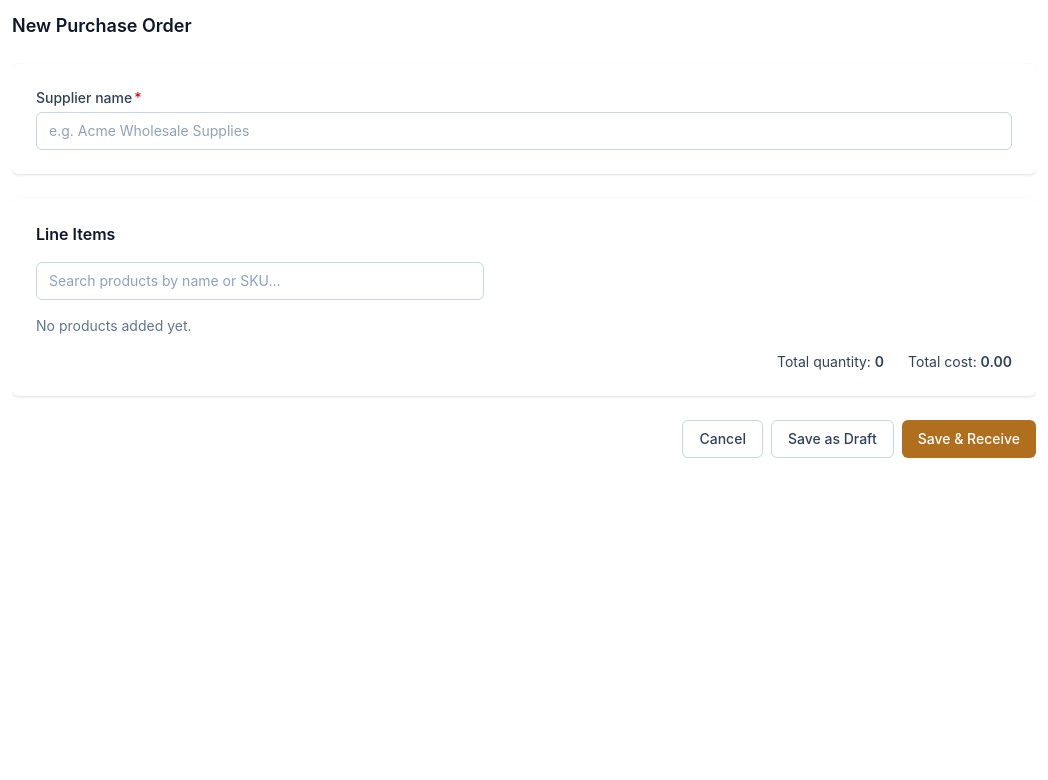
Test: PurchaseOrderBuilderPage › saves and receives in one action on success
This screenshot has width=1048, height=780.
In the field labelled "Supplier name*": (524, 131) [36,112,1012,150], type "Acme Wholesale"
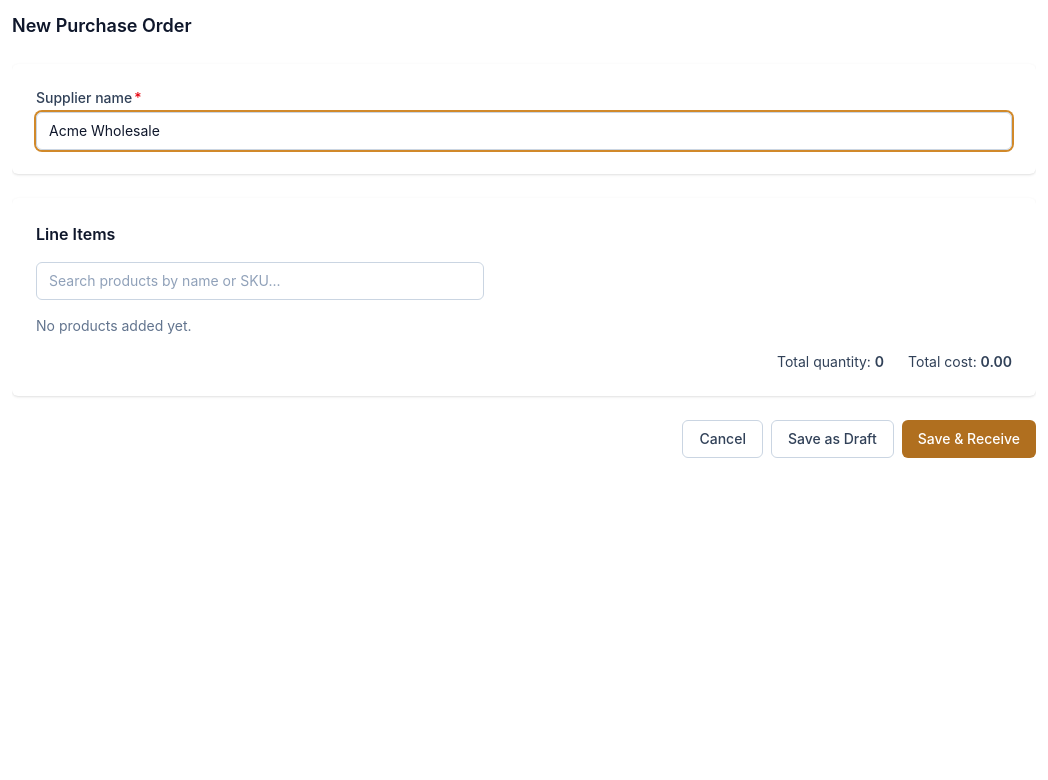
In the search field named "Add product": (260, 281) [36,262,484,300], type "Steel"
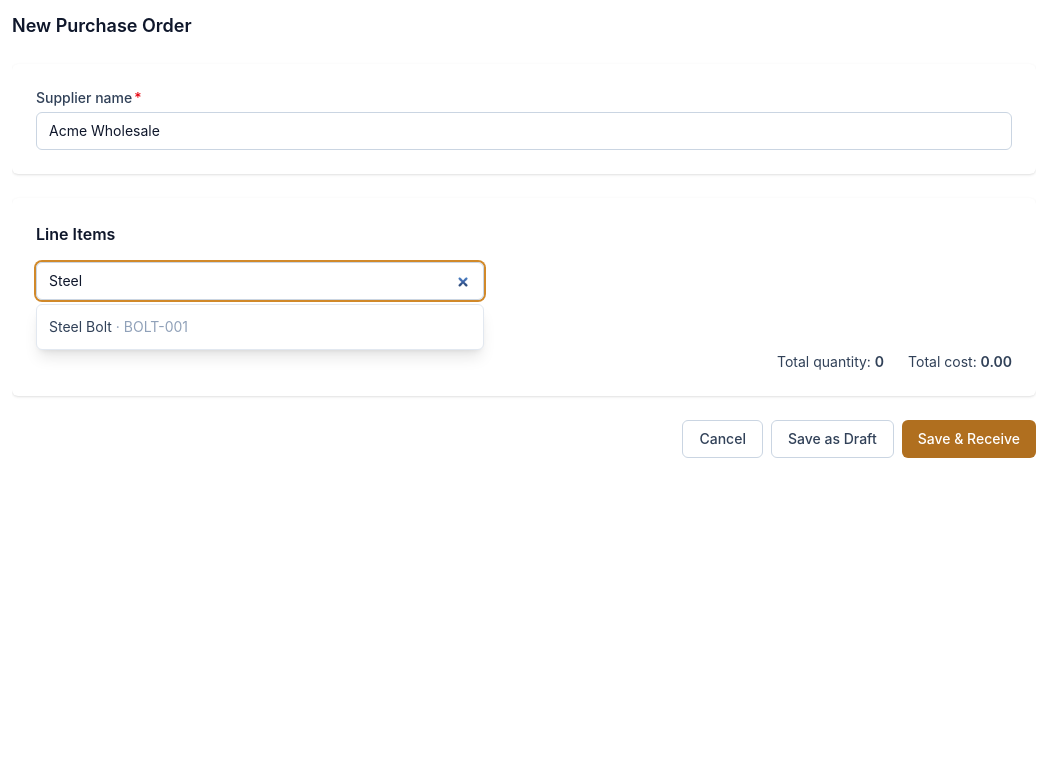
expect the button "Steel Bolt· BOLT-001" is shown: met
Click the button "Steel Bolt· BOLT-001": (80, 326) [37,309,483,345]
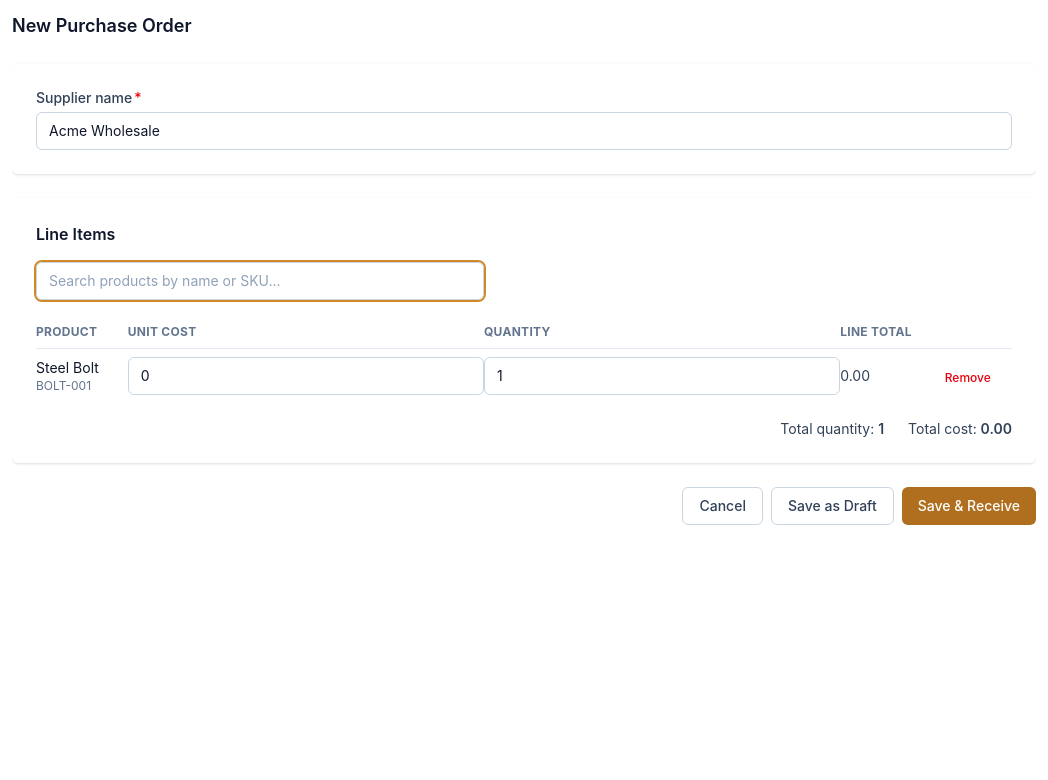
Click the button "Save & Receive": (969, 506) [902,487,1036,525]
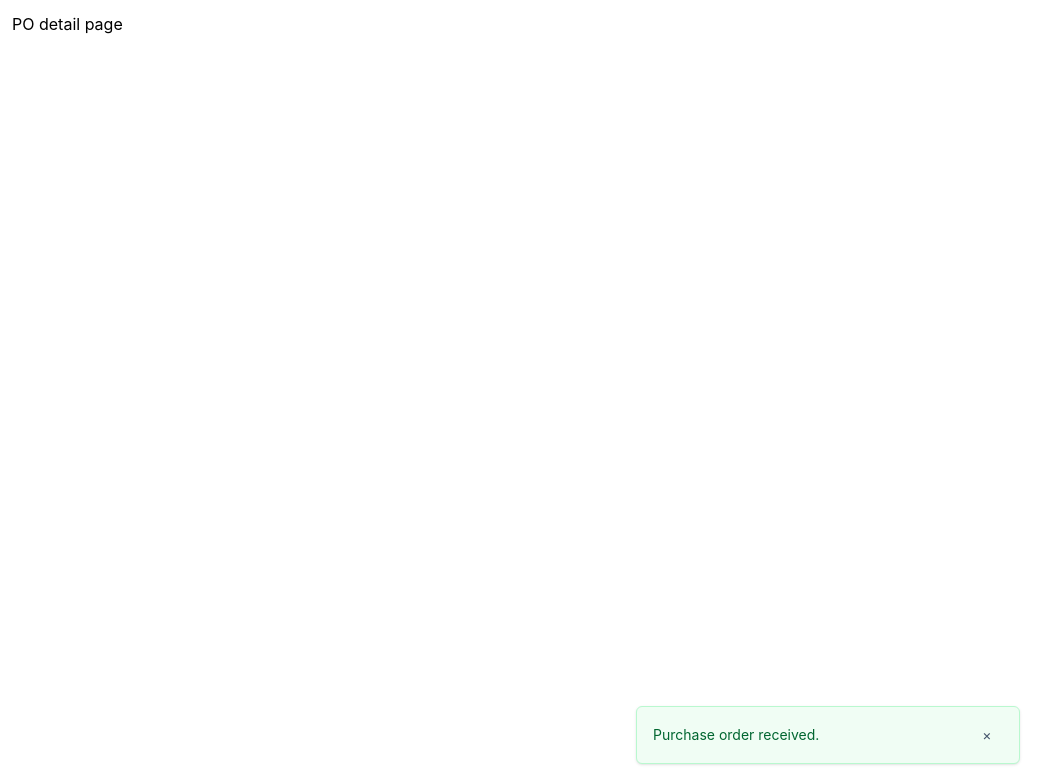
expect the text "PO detail page" is shown: met, box [12,14,123,34]
